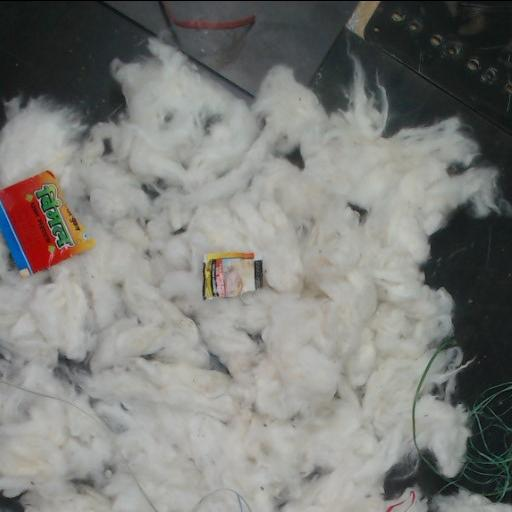conveyor belt: (167, 1, 511, 203), (423, 207, 511, 501), (0, 1, 164, 124)
cotton: (0, 37, 511, 512)
packet: (0, 170, 94, 276), (202, 252, 264, 299)
thread: (395, 337, 464, 488), (0, 371, 115, 432), (463, 381, 511, 503), (156, 1, 254, 46), (125, 466, 160, 512), (190, 488, 253, 512), (384, 487, 434, 512), (0, 482, 36, 502), (0, 502, 24, 512)
